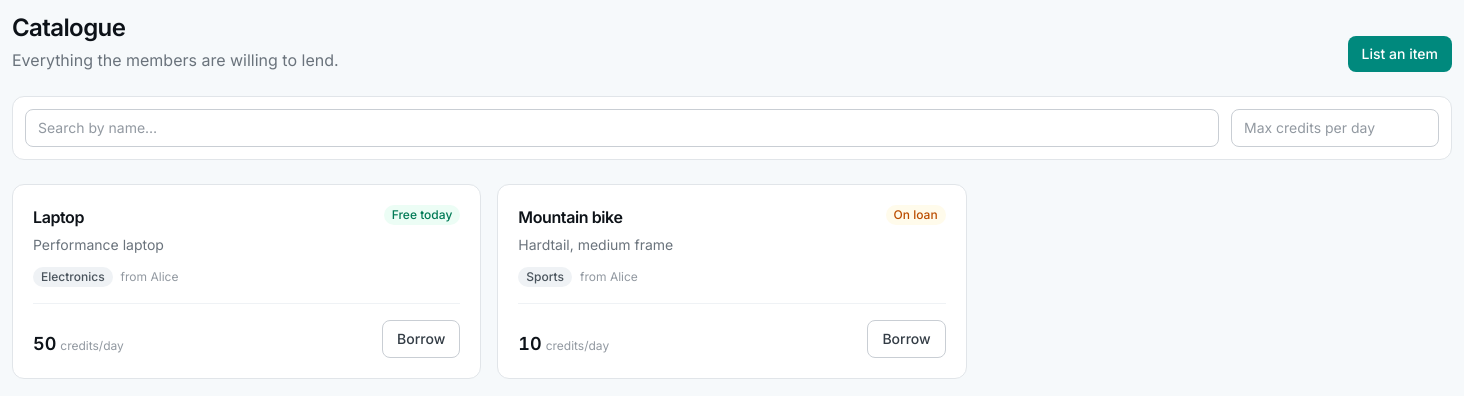
it: the catalogue › shows what the API said when the price is not a number
This screenshot has width=1464, height=396.
Expected: the link "Laptop" is shown, x1=33 y1=205 x2=84 y2=229
Type "cheap" into the field named "Maximum credits per day" at (1335,128), box x1=1231 y1=109 x2=1439 y2=147
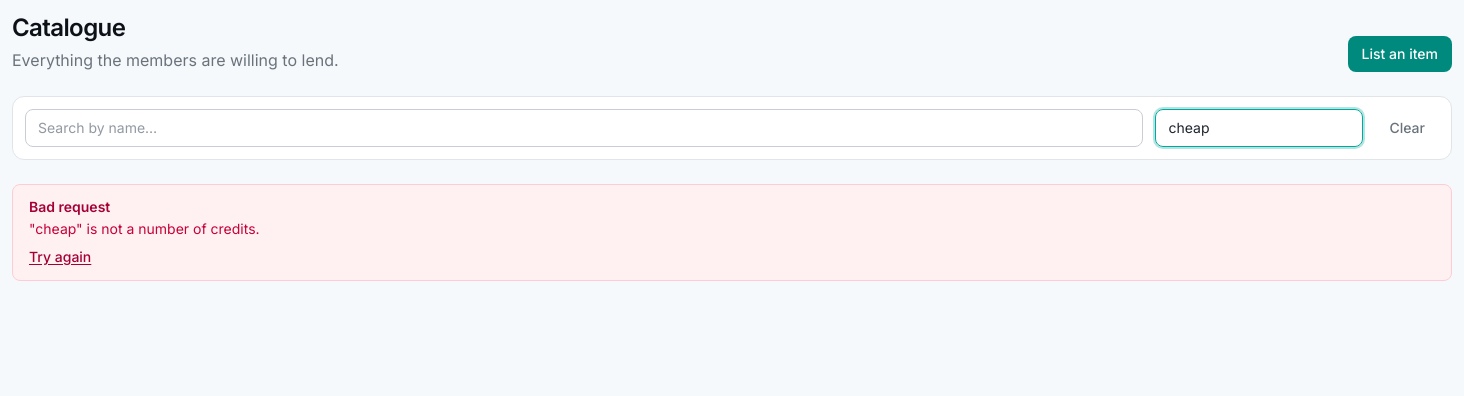
Result: the message shows "\"cheap\" is not a number of credits." at x1=29 y1=220 x2=260 y2=237
